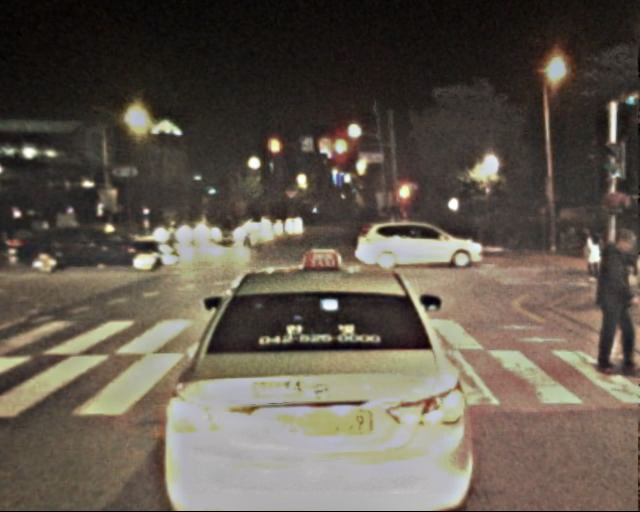person: (588, 230, 629, 368), (618, 227, 640, 285), (583, 227, 605, 280)
